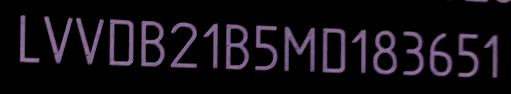letter: (281, 23, 318, 73), (74, 14, 106, 66), (42, 14, 74, 63), (168, 21, 200, 70), (106, 17, 135, 67), (398, 27, 427, 76), (224, 21, 252, 71), (138, 18, 167, 66), (371, 27, 400, 74), (252, 21, 279, 71), (319, 25, 347, 72), (426, 29, 454, 76), (456, 30, 482, 77), (17, 12, 40, 62), (201, 20, 220, 70), (349, 25, 368, 74), (482, 31, 500, 79)
